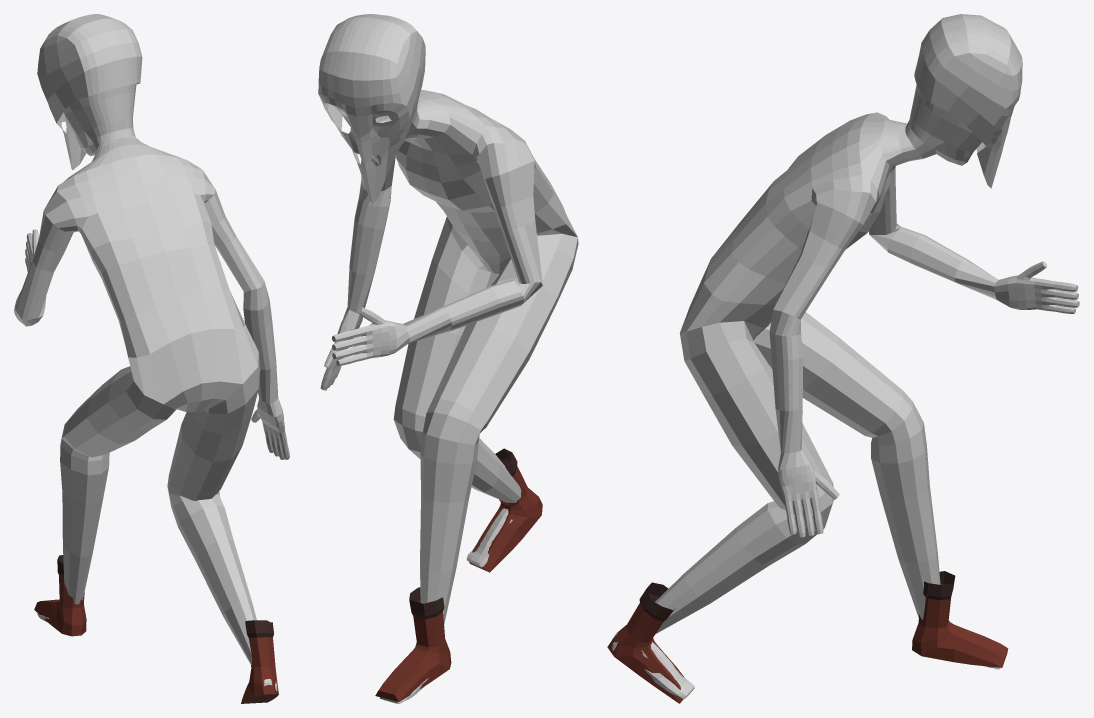
The model's file is saltoadelante_000146.obj.
3 renders of one model, left to right at view 1: azimuth 30°, elevation 25°; view 2: azimuth 150°, elevation 25°; view 3: azimuth 270°, elevation 25°, orthographic. The views are drawn at different scales.
Visible parts, largest first — view 1: Plane.002_Plane.001, Plane.003, Plane.004; view 2: Plane.002_Plane.001, Plane.004, Plane.003; view 3: Plane.002_Plane.001, Plane.004, Plane.003.
Part boxes in pixels (x1,y1,x2,y2): Plane.002_Plane.001: (14,14,289,691); Plane.003: (241,620,278,703); Plane.004: (34,555,86,636); Plane.002_Plane.001: (318,14,578,703); Plane.004: (375,587,451,701); Plane.003: (469,448,542,572); Plane.002_Plane.001: (612,14,1079,698); Plane.004: (912,571,1008,667); Plane.003: (607,582,684,703).
Size of the model in its own units: 2.32 by 5.73 by 3.72.
